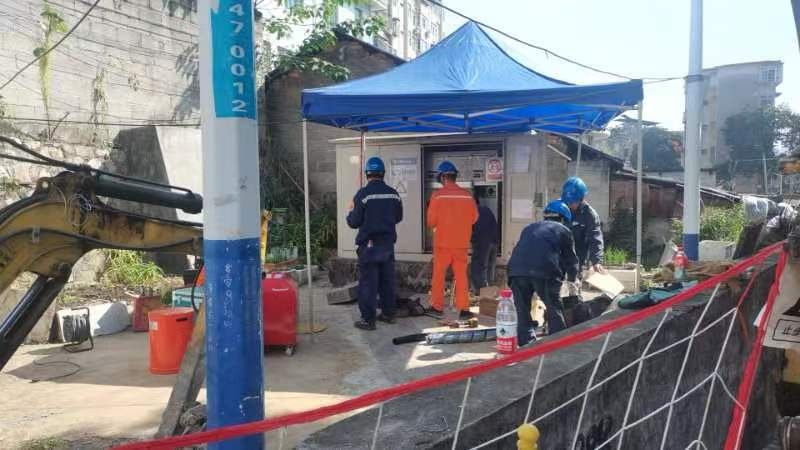halt: (563, 179, 590, 211), (545, 203, 574, 227), (365, 157, 388, 183), (435, 163, 460, 186)
